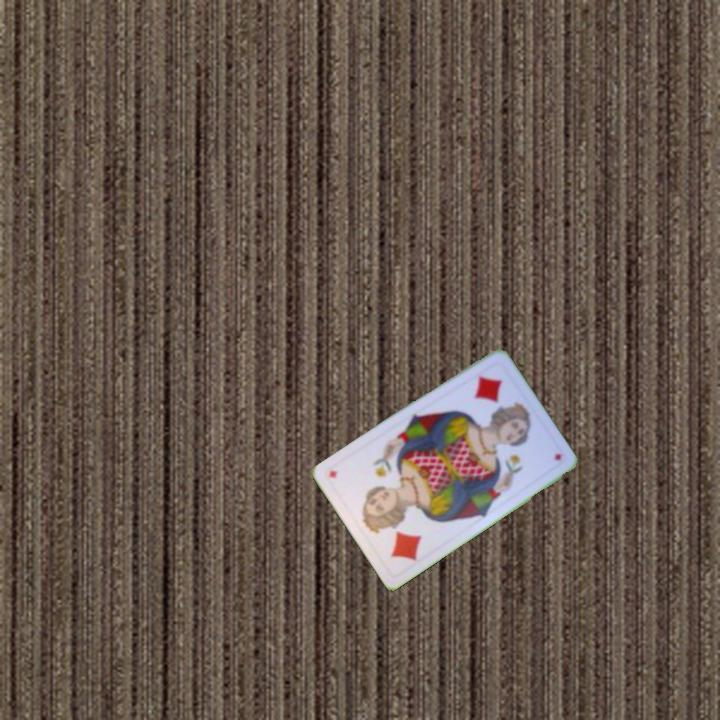d_q.png: (450, 357, 534, 443), (356, 493, 440, 578)
